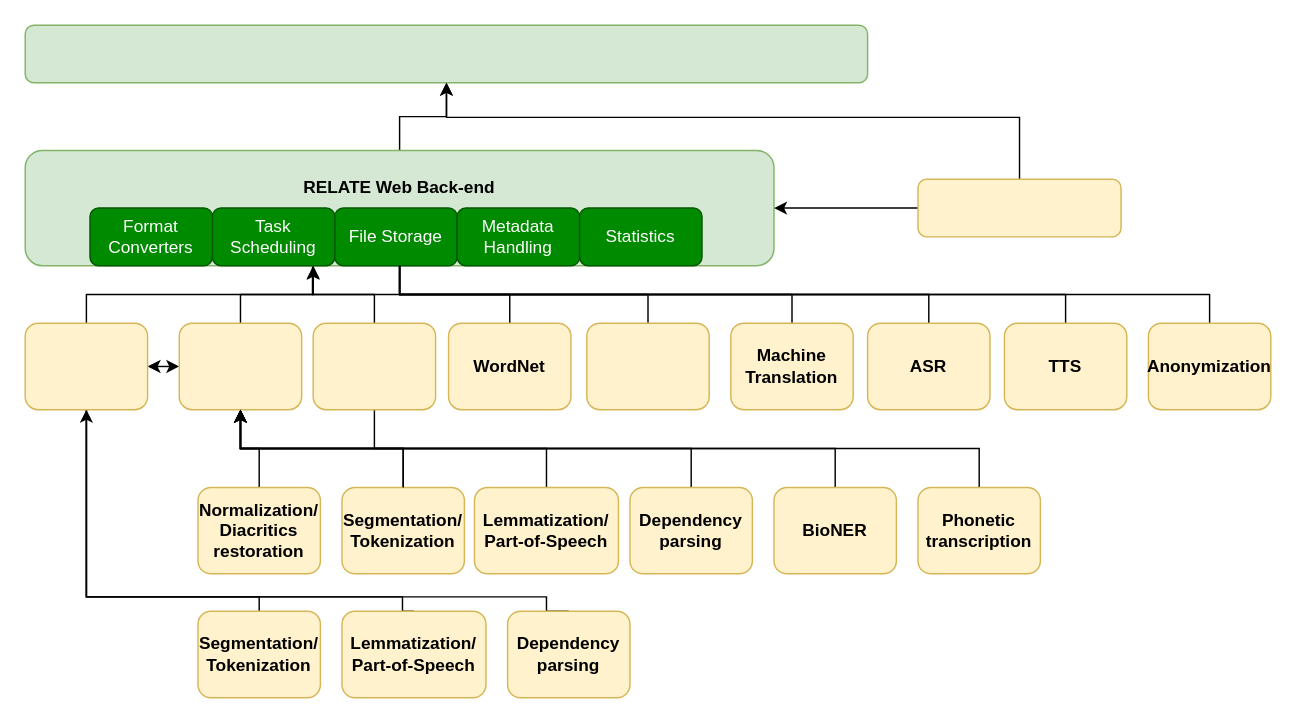
Some shapes in this 1296 by 723 pixel diagram are drawn without their labels. Each missing label, with the centre of its shape:
CoRoLa: pixel 1019 207
IATE/ EUROVOC: pixel 647 366
NER: pixel 374 366
RELATE Web Front-end: pixel 446 53
TEPROLIN web service: pixel 240 366
UDPipe (&others): pixel 86 366
